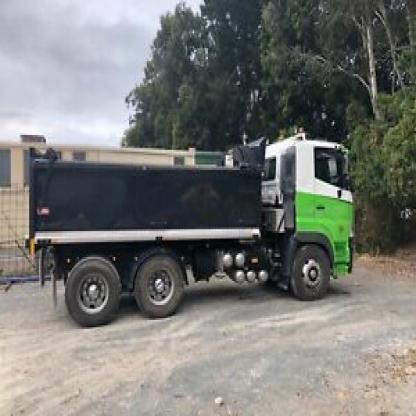dump_truck: (11, 122, 356, 316)
